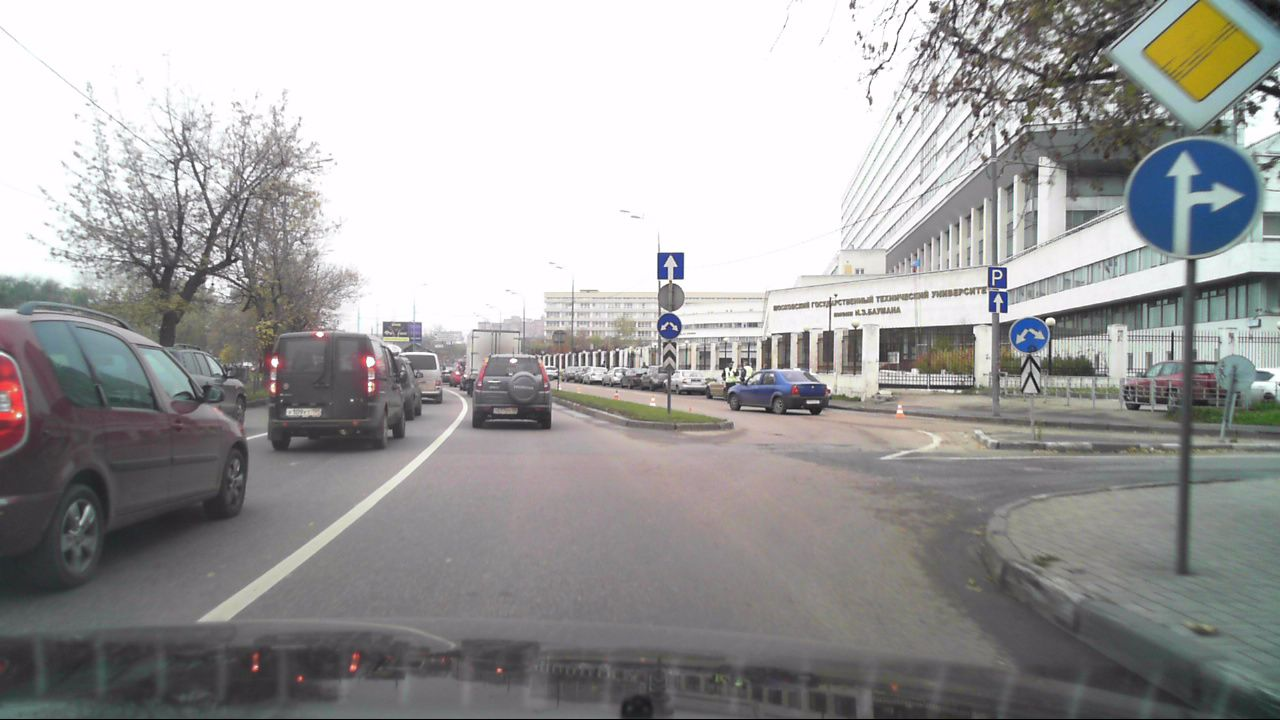main road: (1106, 19, 1279, 128)
